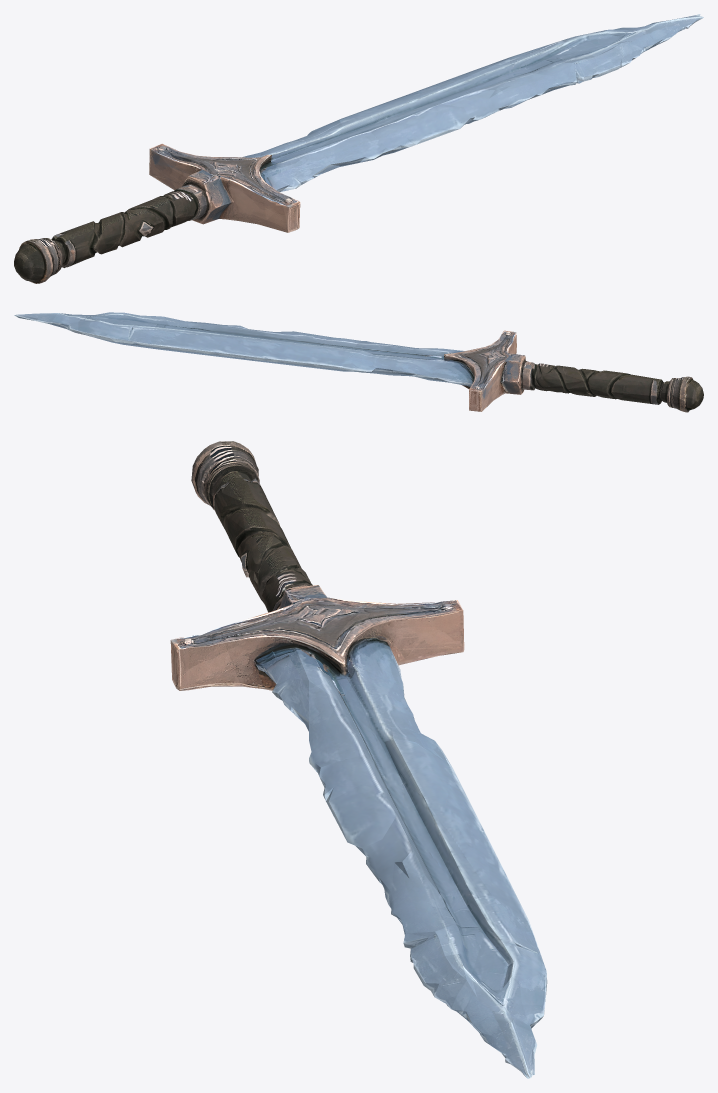
The model's file is weapon_uncommon.glb.
3 renders of one model, top to bottom at view 1: azimuth 30°, elevation 25°; view 2: azimuth 150°, elevation 25°; view 3: azimuth 270°, elevation 25°, orthographic. The views are drawn at different scales.
Parts seen in each view (by area): view 1: output_unwrapped; view 2: output_unwrapped; view 3: output_unwrapped.
Part boxes in pixels (bbox=[...]): output_unwrapped: bbox=[14, 14, 703, 283]; output_unwrapped: bbox=[14, 312, 703, 412]; output_unwrapped: bbox=[170, 441, 547, 1078].
Bounding box in the file's own units: 1.88 × 0.1054 × 0.5026.
Materials: 1 (1 with a texture image).
